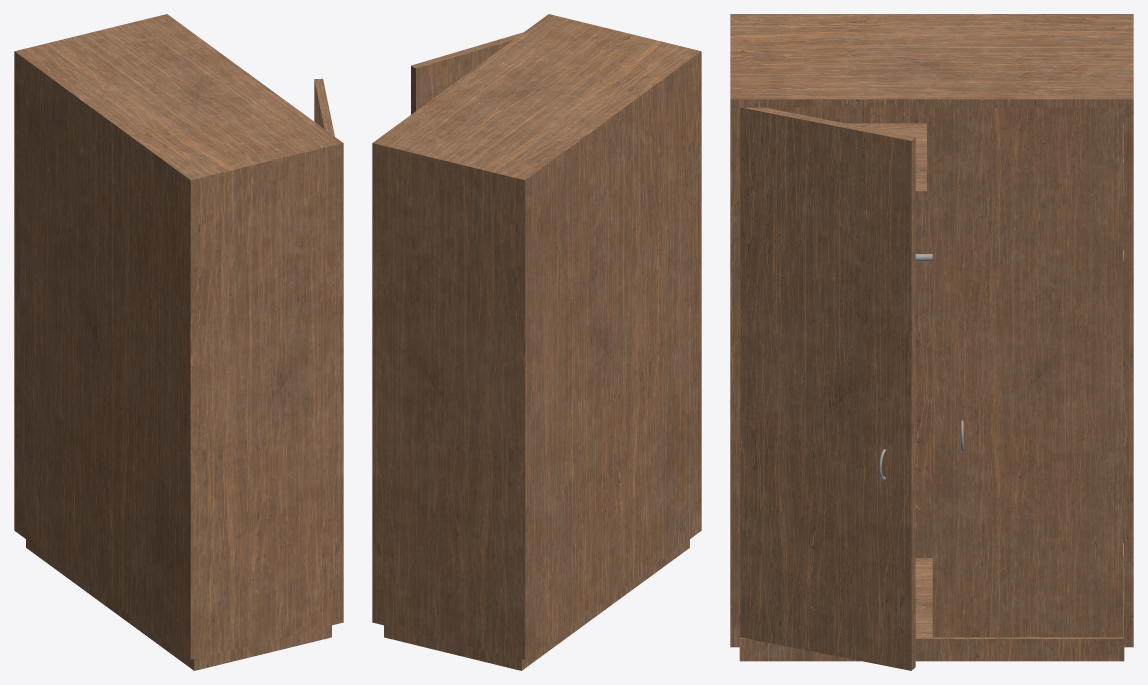
File: closet.glb
3 views of the same model, side by side, from view 1: azimuth 30°, elevation 25°; view 2: azimuth 150°, elevation 25°; view 3: azimuth 270°, elevation 25° (orthographic). The views are drawn at different scales.
Visible parts, largest first — view 1: Closet, Left Door; view 2: Closet, Left Door; view 3: Right Door, Left Door, Closet.
Boxes of the visible parts, bbox=[...] form: Closet: bbox=[14, 14, 343, 670]; Left Door: bbox=[314, 78, 334, 136]; Closet: bbox=[372, 14, 701, 670]; Left Door: bbox=[411, 32, 523, 114]; Right Door: bbox=[932, 107, 1123, 637]; Left Door: bbox=[740, 107, 915, 670]; Closet: bbox=[730, 14, 1133, 661].
Bounding box in the file's own units: 2.77 × 6.2 × 4.
Materials: 2 (2 with a texture image).
